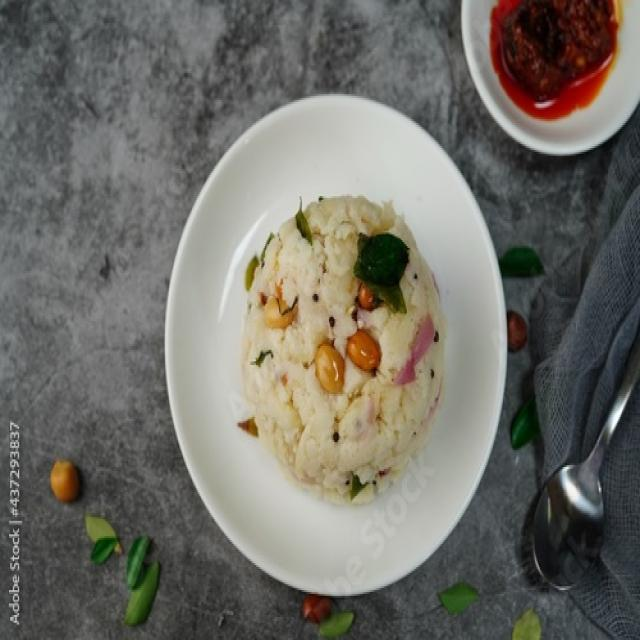UPMA: (243, 196, 444, 502)
